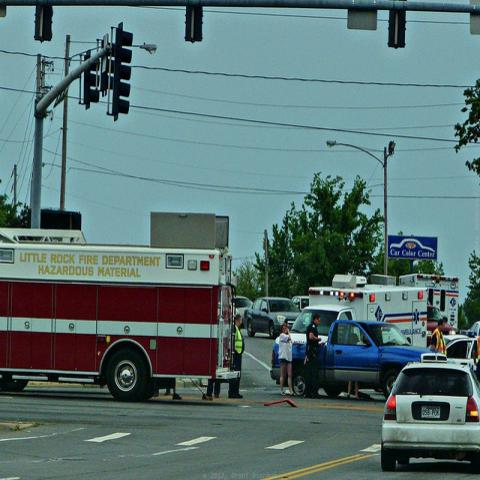car: (382, 362, 479, 472), (244, 296, 301, 339), (444, 339, 476, 372), (235, 295, 253, 328), (292, 296, 310, 312), (467, 320, 479, 339)
truck: (3, 220, 239, 398), (270, 275, 427, 395), (319, 320, 442, 400)
